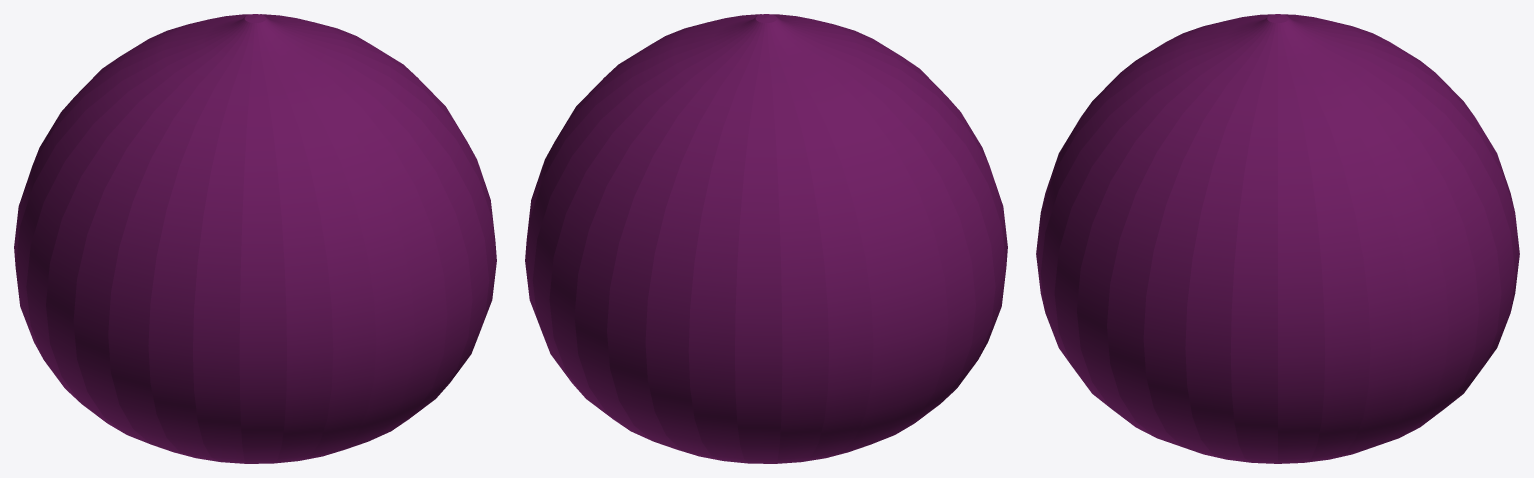
Rendered from onions.fbx.
3 views of the same model, side by side, from view 1: azimuth 30°, elevation 25°; view 2: azimuth 150°, elevation 25°; view 3: azimuth 270°, elevation 25° (orthographic).
Parts seen in each view (by area): view 1: onions; view 2: onions; view 3: onions.
Boxes of the visible parts, bbox=[...] form: onions: bbox=[14, 14, 496, 463]; onions: bbox=[525, 14, 1007, 463]; onions: bbox=[1036, 14, 1519, 463].
Size of the model in its own units: 2 by 1.89 by 2.
